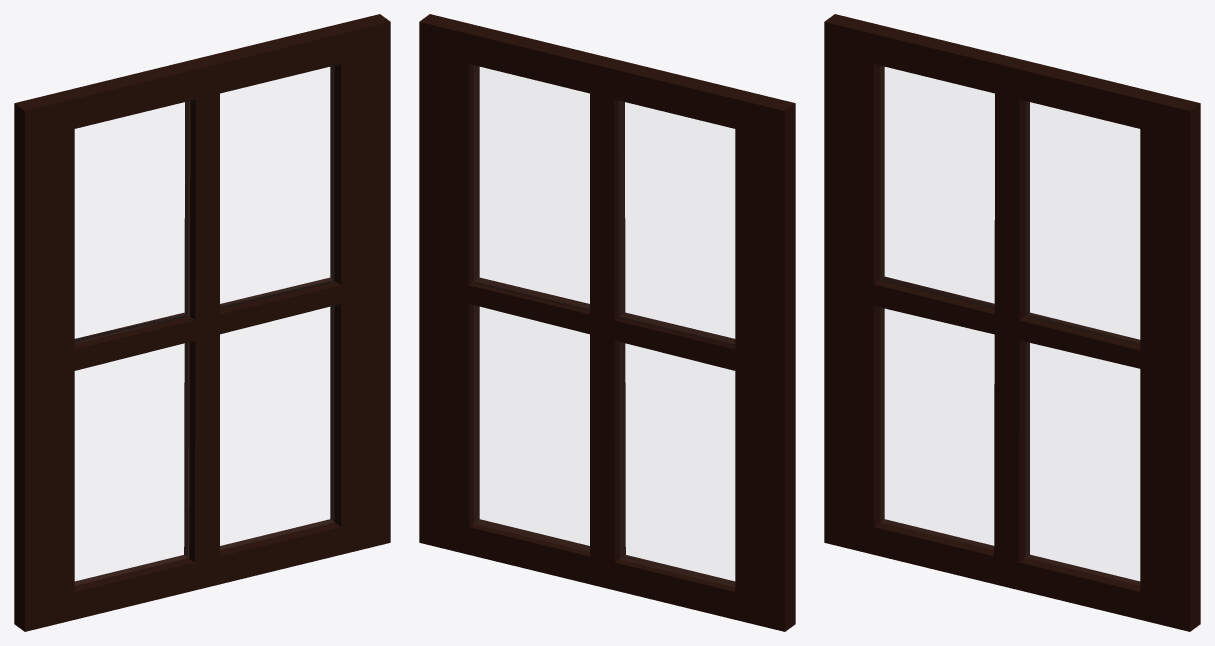
File: Windowns 1.fbx
3 renders of one model, left to right at view 1: azimuth 30°, elevation 25°; view 2: azimuth 150°, elevation 25°; view 3: azimuth 330°, elevation 25°, orthographic.
Parts seen in each view (by area): view 1: WinDown; view 2: WinDown; view 3: WinDown.
Boxes of the visible parts, box(x1,y1,x2,y2) form: WinDown: box(14, 14, 390, 631); WinDown: box(419, 14, 795, 631); WinDown: box(824, 14, 1200, 631).
Bounding box in the file's own units: 609 × 829 × 31.07.
